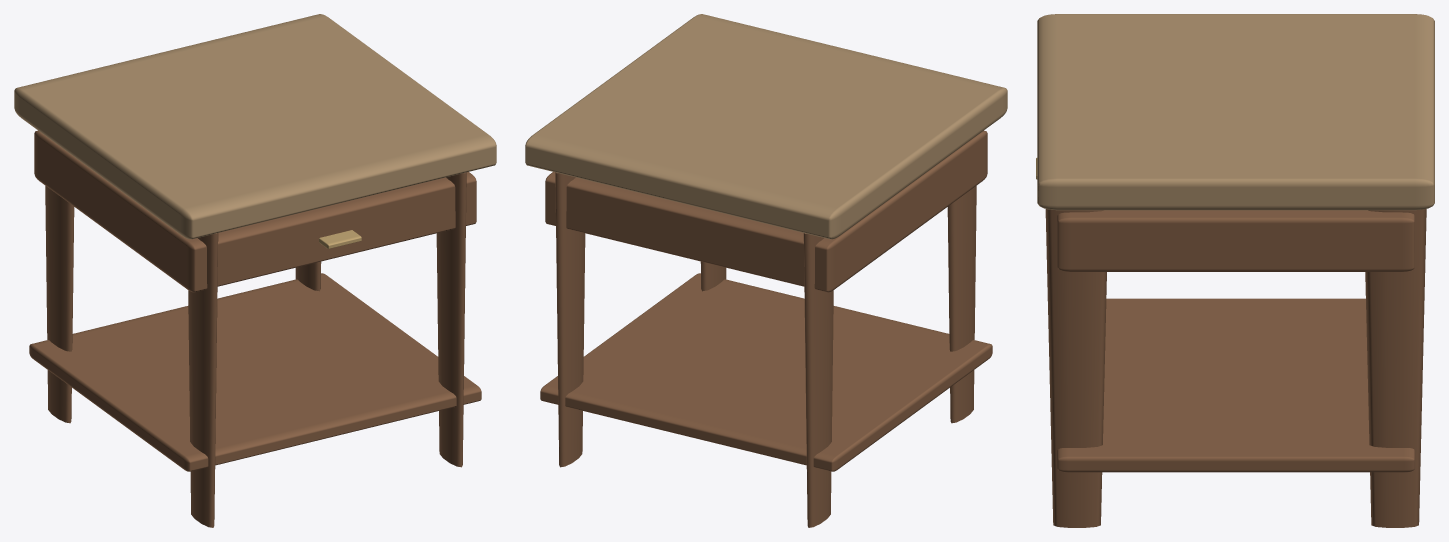
The model's file is table-21-2.glb.
3 renders of one model, left to right at view 1: azimuth 30°, elevation 25°; view 2: azimuth 150°, elevation 25°; view 3: azimuth 270°, elevation 25°, orthographic. The views are drawn at different scales.
Parts seen in each view (by area): view 1: part, upholstery; view 2: part, upholstery; view 3: part, upholstery.
Boxes of the visible parts, <box> form: part: <box>29,130,481,527</box>; upholstery: <box>14,14,496,239</box>; part: <box>540,130,992,527</box>; upholstery: <box>525,14,1007,239</box>; part: <box>1045,209,1426,527</box>; upholstery: <box>1037,14,1434,210</box>.
Size of the model in its own units: 1 by 1 by 1.
